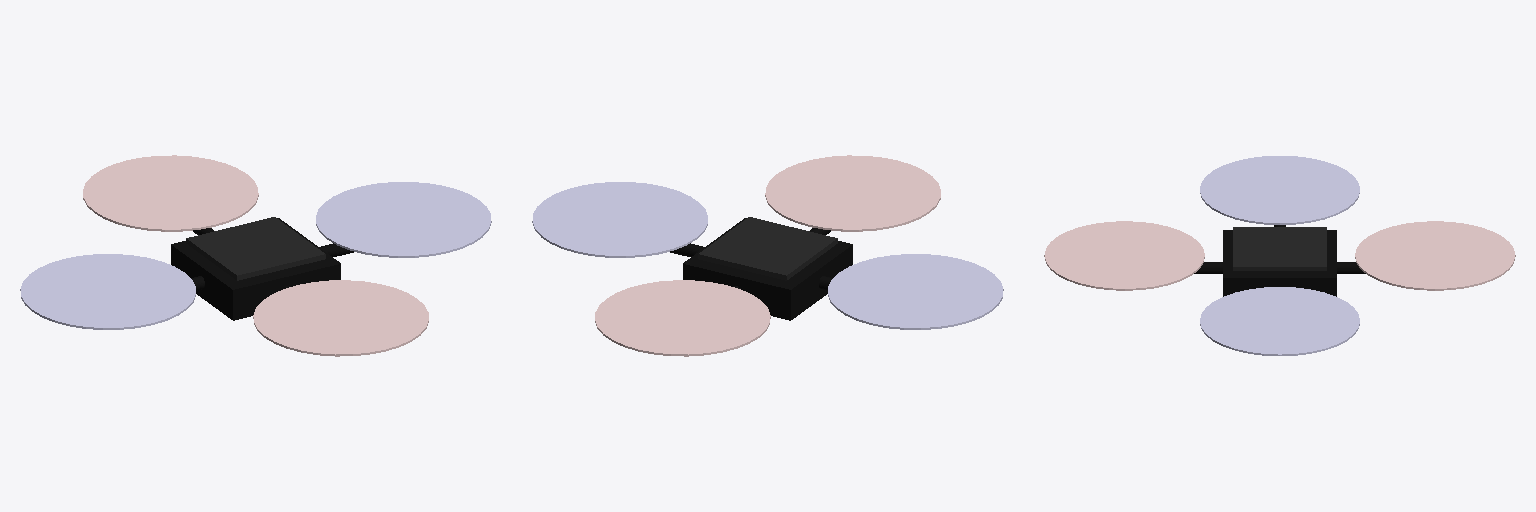
URDF robot description (quadrotor_research):
<?xml version="1.0" ?>
<!-- Quadrotor URDF for PyBullet simulation.
     Base inertial parameters are aligned with VehicleConfig true parameters at runtime
     via changeDynamics() in src/sim/pybullet_backend.py, so the <inertial> values
     here only serve as a fallback.
     Rotor links are visual placeholders; aggregate force/torque are applied to the
     base body in pybullet_backend.py.
     Spin-direction labels: [CCW, CW, CCW, CW] for rotors [0, 1, 2, 3].
     Arm offsets match vehicle.arm_length_m = 0.30 m.
     docs/05_pybullet_simulation.md §2.1 -->
<robot name="quadrotor_research">

  <!-- ── Base link (central body + battery bay) ───────────────────── -->
  <link name="base_link">
    <inertial>
      <origin xyz="0 0 0" rpy="0 0 0"/>
      <mass value="3.20"/>
      <inertia ixx="0.090" ixy="0.0" ixz="0.0"
               iyy="0.095" iyz="0.0"
               izz="0.160"/>
    </inertial>
    <!-- Main body (carbon-fibre deck) -->
    <visual>
      <origin xyz="0 0 0" rpy="0 0 0"/>
      <geometry>
        <box size="0.22 0.22 0.06"/>
      </geometry>
      <material name="carbon">
        <color rgba="0.10 0.10 0.10 1"/>
      </material>
    </visual>
    <!-- Top landing-gear plate -->
    <visual>
      <origin xyz="0 0 0.04" rpy="0 0 0"/>
      <geometry>
        <box size="0.18 0.18 0.01"/>
      </geometry>
      <material name="dark_grey">
        <color rgba="0.20 0.20 0.20 1"/>
      </material>
    </visual>
    <collision>
      <origin xyz="0 0 0" rpy="0 0 0"/>
      <geometry>
        <box size="0.22 0.22 0.08"/>
      </geometry>
    </collision>
  </link>

  <!-- ── Arm +x ────────────────────────────────────────────────────── -->
  <link name="arm_px">
    <inertial>
      <origin xyz="0 0 0" rpy="0 0 0"/>
      <mass value="0.04"/>
      <inertia ixx="1e-5" ixy="0" ixz="0"
               iyy="1e-4" iyz="0" izz="1e-4"/>
    </inertial>
    <visual>
      <origin xyz="0 0 0" rpy="0 1.5708 0"/>
      <geometry><cylinder radius="0.012" length="0.24"/></geometry>
      <material name="carbon"/>
    </visual>
  </link>
  <joint name="arm_px_joint" type="fixed">
    <parent link="base_link"/>
    <child  link="arm_px"/>
    <origin xyz="0.18 0.00 0.00" rpy="0 0 0"/>
  </joint>

  <!-- ── Arm -x ────────────────────────────────────────────────────── -->
  <link name="arm_nx">
    <inertial>
      <origin xyz="0 0 0" rpy="0 0 0"/>
      <mass value="0.04"/>
      <inertia ixx="1e-5" ixy="0" ixz="0"
               iyy="1e-4" iyz="0" izz="1e-4"/>
    </inertial>
    <visual>
      <origin xyz="0 0 0" rpy="0 1.5708 0"/>
      <geometry><cylinder radius="0.012" length="0.24"/></geometry>
      <material name="carbon"/>
    </visual>
  </link>
  <joint name="arm_nx_joint" type="fixed">
    <parent link="base_link"/>
    <child  link="arm_nx"/>
    <origin xyz="-0.18 0.00 0.00" rpy="0 0 0"/>
  </joint>

  <!-- ── Arm +y ────────────────────────────────────────────────────── -->
  <link name="arm_py">
    <inertial>
      <origin xyz="0 0 0" rpy="0 0 0"/>
      <mass value="0.04"/>
      <inertia ixx="1e-4" ixy="0" ixz="0"
               iyy="1e-5" iyz="0" izz="1e-4"/>
    </inertial>
    <visual>
      <origin xyz="0 0 0" rpy="1.5708 0 0"/>
      <geometry><cylinder radius="0.012" length="0.24"/></geometry>
      <material name="carbon"/>
    </visual>
  </link>
  <joint name="arm_py_joint" type="fixed">
    <parent link="base_link"/>
    <child  link="arm_py"/>
    <origin xyz="0.00 0.18 0.00" rpy="0 0 0"/>
  </joint>

  <!-- ── Arm -y ────────────────────────────────────────────────────── -->
  <link name="arm_ny">
    <inertial>
      <origin xyz="0 0 0" rpy="0 0 0"/>
      <mass value="0.04"/>
      <inertia ixx="1e-4" ixy="0" ixz="0"
               iyy="1e-5" iyz="0" izz="1e-4"/>
    </inertial>
    <visual>
      <origin xyz="0 0 0" rpy="1.5708 0 0"/>
      <geometry><cylinder radius="0.012" length="0.24"/></geometry>
      <material name="carbon"/>
    </visual>
  </link>
  <joint name="arm_ny_joint" type="fixed">
    <parent link="base_link"/>
    <child  link="arm_ny"/>
    <origin xyz="0.00 -0.18 0.00" rpy="0 0 0"/>
  </joint>

  <!-- ── Rotor 0: +x (CCW) ─────────────────────────────────────────── -->
  <link name="rotor_0">
    <inertial>
      <origin xyz="0 0 0" rpy="0 0 0"/>
      <mass value="0.025"/>
      <inertia ixx="2.0e-5" ixy="0" ixz="0"
               iyy="2.0e-5" iyz="0" izz="3.5e-5"/>
    </inertial>
    <!-- Motor body -->
    <visual>
      <origin xyz="0 0 -0.015" rpy="0 0 0"/>
      <geometry><cylinder radius="0.022" length="0.030"/></geometry>
      <material name="motor_dark"><color rgba="0.08 0.08 0.08 1"/></material>
    </visual>
    <!-- Propeller disc (CCW — light tint) -->
    <visual>
      <origin xyz="0 0 0.006" rpy="0 0 0"/>
      <geometry><cylinder radius="0.155" length="0.004"/></geometry>
      <material name="prop_ccw"><color rgba="0.85 0.85 0.95 0.70"/></material>
    </visual>
  </link>
  <joint name="rotor_0_joint" type="continuous">
    <parent link="base_link"/>
    <child  link="rotor_0"/>
    <origin xyz="0.30 0.00 0.02" rpy="0 0 0"/>
    <axis xyz="0 0 1"/>
  </joint>

  <!-- ── Rotor 1: +y (CW) ──────────────────────────────────────────── -->
  <link name="rotor_1">
    <inertial>
      <origin xyz="0 0 0" rpy="0 0 0"/>
      <mass value="0.025"/>
      <inertia ixx="2.0e-5" ixy="0" ixz="0"
               iyy="2.0e-5" iyz="0" izz="3.5e-5"/>
    </inertial>
    <visual>
      <origin xyz="0 0 -0.015" rpy="0 0 0"/>
      <geometry><cylinder radius="0.022" length="0.030"/></geometry>
      <material name="motor_dark"/>
    </visual>
    <!-- Propeller disc (CW — warm tint) -->
    <visual>
      <origin xyz="0 0 0.006" rpy="0 0 0"/>
      <geometry><cylinder radius="0.155" length="0.004"/></geometry>
      <material name="prop_cw"><color rgba="0.95 0.85 0.85 0.70"/></material>
    </visual>
  </link>
  <joint name="rotor_1_joint" type="continuous">
    <parent link="base_link"/>
    <child  link="rotor_1"/>
    <origin xyz="0.00 0.30 0.02" rpy="0 0 0"/>
    <axis xyz="0 0 1"/>
  </joint>

  <!-- ── Rotor 2: -x (CCW) ─────────────────────────────────────────── -->
  <link name="rotor_2">
    <inertial>
      <origin xyz="0 0 0" rpy="0 0 0"/>
      <mass value="0.025"/>
      <inertia ixx="2.0e-5" ixy="0" ixz="0"
               iyy="2.0e-5" iyz="0" izz="3.5e-5"/>
    </inertial>
    <visual>
      <origin xyz="0 0 -0.015" rpy="0 0 0"/>
      <geometry><cylinder radius="0.022" length="0.030"/></geometry>
      <material name="motor_dark"/>
    </visual>
    <visual>
      <origin xyz="0 0 0.006" rpy="0 0 0"/>
      <geometry><cylinder radius="0.155" length="0.004"/></geometry>
      <material name="prop_ccw"/>
    </visual>
  </link>
  <joint name="rotor_2_joint" type="continuous">
    <parent link="base_link"/>
    <child  link="rotor_2"/>
    <origin xyz="-0.30 0.00 0.02" rpy="0 0 0"/>
    <axis xyz="0 0 1"/>
  </joint>

  <!-- ── Rotor 3: -y (CW) ──────────────────────────────────────────── -->
  <link name="rotor_3">
    <inertial>
      <origin xyz="0 0 0" rpy="0 0 0"/>
      <mass value="0.025"/>
      <inertia ixx="2.0e-5" ixy="0" ixz="0"
               iyy="2.0e-5" iyz="0" izz="3.5e-5"/>
    </inertial>
    <visual>
      <origin xyz="0 0 -0.015" rpy="0 0 0"/>
      <geometry><cylinder radius="0.022" length="0.030"/></geometry>
      <material name="motor_dark"/>
    </visual>
    <visual>
      <origin xyz="0 0 0.006" rpy="0 0 0"/>
      <geometry><cylinder radius="0.155" length="0.004"/></geometry>
      <material name="prop_cw"/>
    </visual>
  </link>
  <joint name="rotor_3_joint" type="continuous">
    <parent link="base_link"/>
    <child  link="rotor_3"/>
    <origin xyz="0.00 -0.30 0.02" rpy="0 0 0"/>
    <axis xyz="0 0 1"/>
  </joint>

</robot>

--- Facts derived from the render (not from the file) ---
Views: 3 orthographic renders of the robot side by side, from view 1: azimuth 30°, elevation 25°; view 2: azimuth 150°, elevation 25°; view 3: azimuth 270°, elevation 25°.
Robot: quadrotor_research — 9 links, 8 joints (4 continuous, 4 fixed); root link base_link; default pose: every joint at zero.
Links seen in each view (by area): view 1: rotor_1, rotor_3, rotor_0, rotor_2, base_link; view 2: rotor_1, rotor_3, rotor_0, rotor_2, base_link; view 3: rotor_1, rotor_3, rotor_0, rotor_2, base_link.
Boxes of the visible links, x1=… form: rotor_1: x1=83, y1=155, x2=258, y2=231; rotor_3: x1=253, y1=280, x2=428, y2=356; rotor_0: x1=316, y1=182, x2=491, y2=257; rotor_2: x1=20, y1=254, x2=195, y2=329; base_link: x1=171, y1=217, x2=340, y2=320; rotor_1: x1=595, y1=280, x2=770, y2=356; rotor_3: x1=765, y1=155, x2=940, y2=231; rotor_0: x1=532, y1=182, x2=707, y2=257; rotor_2: x1=828, y1=254, x2=1003, y2=329; base_link: x1=683, y1=217, x2=852, y2=320; rotor_1: x1=1355, y1=221, x2=1515, y2=290; rotor_3: x1=1044, y1=221, x2=1204, y2=290; rotor_0: x1=1200, y1=287, x2=1359, y2=355; rotor_2: x1=1200, y1=156, x2=1359, y2=224; base_link: x1=1223, y1=227, x2=1336, y2=296.
Bounding box of the posed robot: 0.91 × 0.91 × 0.075 m (x, y, z).
Geometry: primitives only (box / cylinder / sphere), no mesh files.
